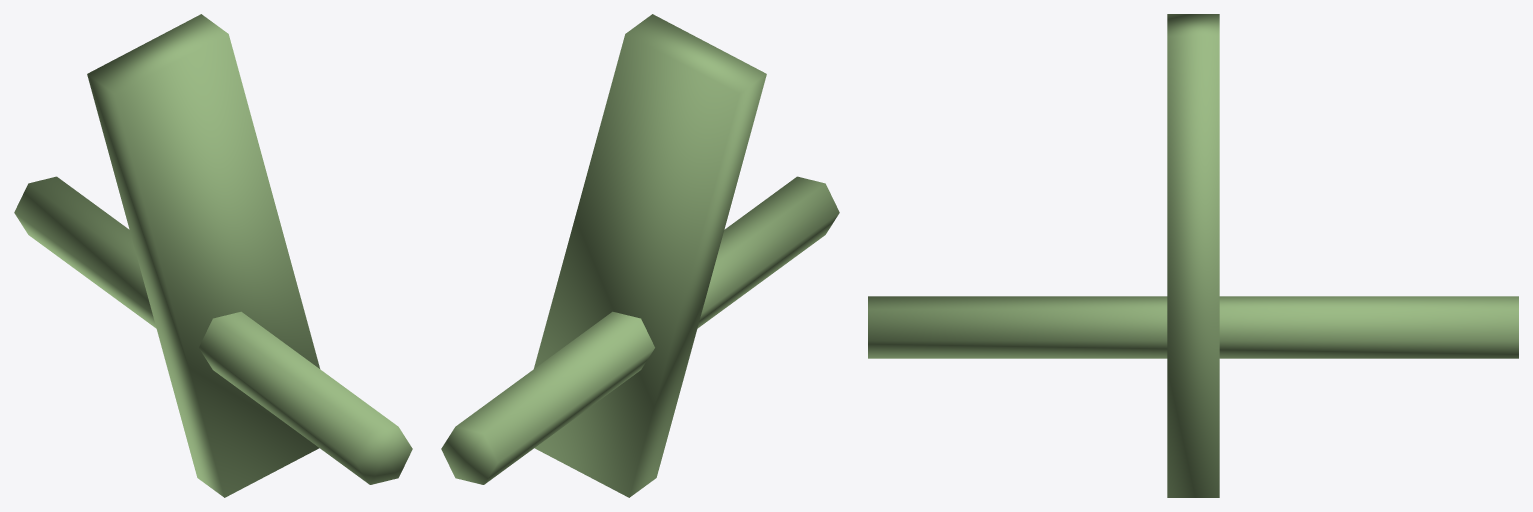
File: plant_wheat_seedling.glb
3 renders of one model, left to right at view 1: azimuth 30°, elevation 25°; view 2: azimuth 150°, elevation 25°; view 3: azimuth 270°, elevation 25°, orthographic. The views are drawn at different scales.
Parts seen in each view (by area): view 1: leaf, stem; view 2: leaf, stem; view 3: stem, leaf.
Part boxes in pixels (x1,y1,x2,y2): leaf: (87, 14, 319, 497); stem: (14, 176, 412, 484); leaf: (534, 14, 766, 497); stem: (441, 176, 839, 484); stem: (868, 296, 1518, 358); leaf: (1167, 14, 1219, 497).
Bounding box in the file's own units: 0.0949 × 0.1868 × 0.25.
